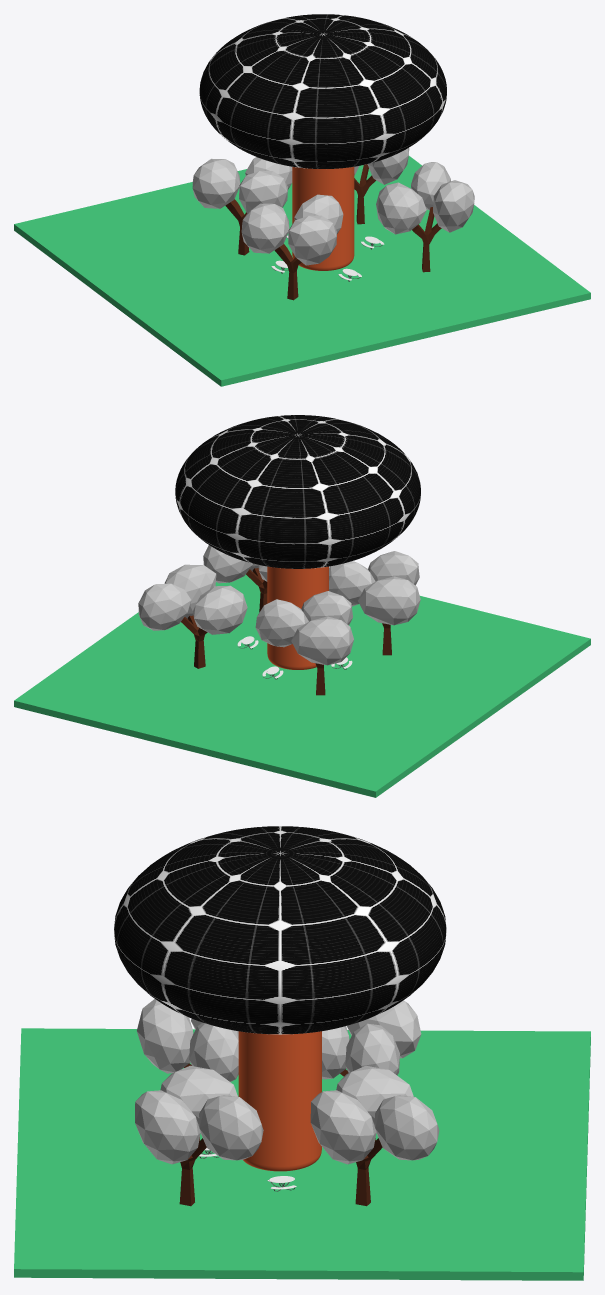
Rendered from Solar Energy Storing Artificial Trees.fbx.
3 views of the same model, one above another, from view 1: azimuth 30°, elevation 25°; view 2: azimuth 150°, elevation 25°; view 3: azimuth 270°, elevation 25° (orthographic). The views are drawn at different scales.
Parts seen in each view (by area): view 1: Grass, Sphere, treetop (×4), Cylinder, trunk and branches (×3); view 2: Grass, Sphere, treetop (×4), Cylinder, trunk and branches; view 3: Grass, Sphere, treetop (×4), Cylinder, trunk and branches (×2).
Part boxes in pixels (<box>): Grass: <box>14,156,590,386</box>; Sphere: <box>199,14,446,168</box>; treetop (×4): <box>192,148,474,265</box>; Cylinder: <box>292,167,354,270</box>; trunk and branches (×3): <box>274,164,441,300</box>; Grass: <box>14,574,590,797</box>; Sphere: <box>175,415,420,568</box>; treetop (×4): <box>138,545,420,665</box>; Cylinder: <box>267,566,328,669</box>; trunk and branches: <box>181,615,207,668</box>; Grass: <box>14,1028,590,1280</box>; Sphere: <box>114,826,446,1034</box>; treetop (×4): <box>135,999,439,1164</box>; Cylinder: <box>238,1031,321,1171</box>; trunk and branches (×2): <box>179,1137,382,1206</box>.
Size of the model in its own units: 43.33 by 43.33 by 26.
